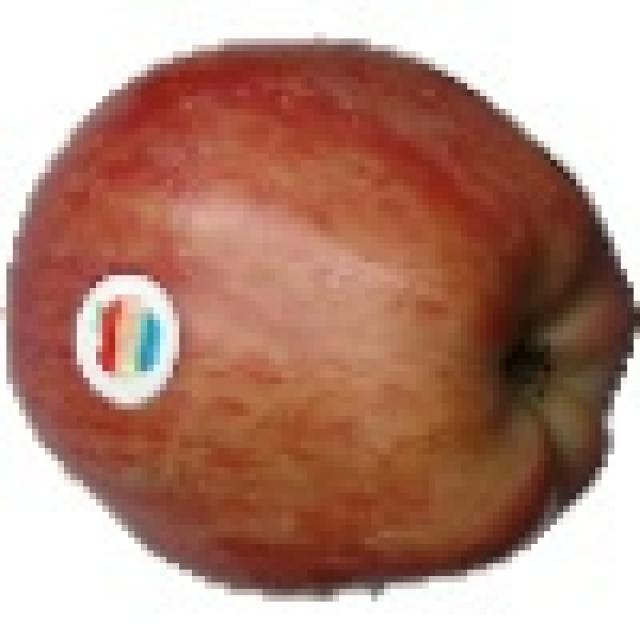apple: (12, 27, 637, 596)
